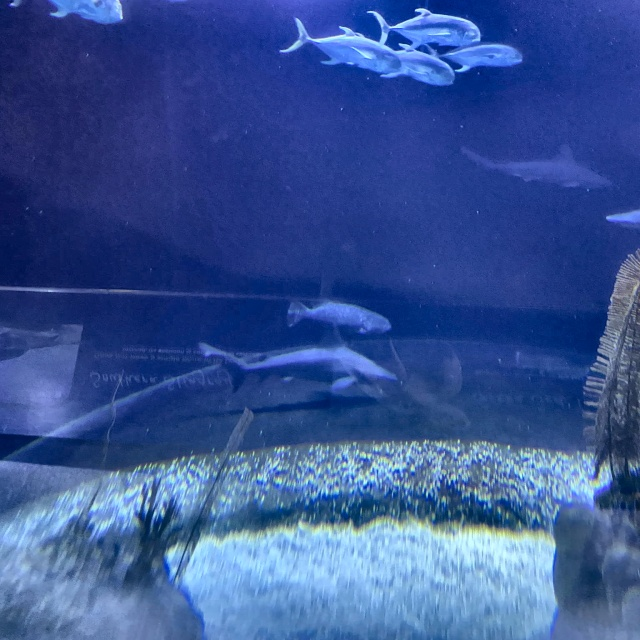fish: (286, 19, 400, 73), (372, 11, 484, 48), (291, 297, 393, 335), (5, 0, 134, 29), (383, 42, 455, 91), (439, 38, 527, 70)
shark: (190, 333, 420, 399), (457, 147, 603, 194)
